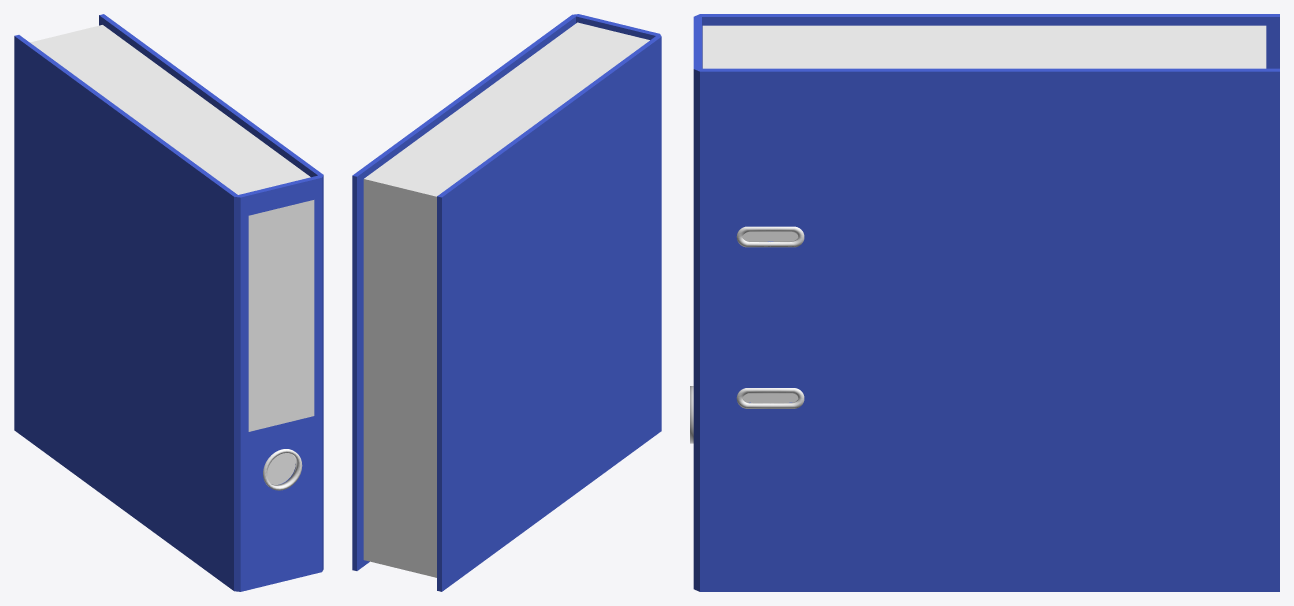
Rendered from segregator.fbx.
3 renders of one model, left to right at view 1: azimuth 30°, elevation 25°; view 2: azimuth 150°, elevation 25°; view 3: azimuth 270°, elevation 25°, orthographic. The views are drawn at different scales.
Parts seen in each view (by area): view 1: Cube.004, Cube.007, Circle.003; view 2: Cube.004, Cube.007; view 3: Cube.004, Cube.007, Circle.004.
Part boxes in pixels (x1=…): Cube.004: x1=14, y1=14, x2=323, y2=591; Cube.007: x1=30, y1=25, x2=310, y2=484; Circle.003: x1=263, y1=449, x2=302, y2=490; Cube.004: x1=352, y1=14, x2=661, y2=591; Cube.007: x1=363, y1=22, x2=649, y2=577; Cube.004: x1=693, y1=14, x2=1279, y2=591; Cube.007: x1=702, y1=25, x2=1266, y2=402; Circle.004: x1=736, y1=226, x2=804, y2=408.
Bounding box in the file's own units: 95.75 × 397 × 408.
